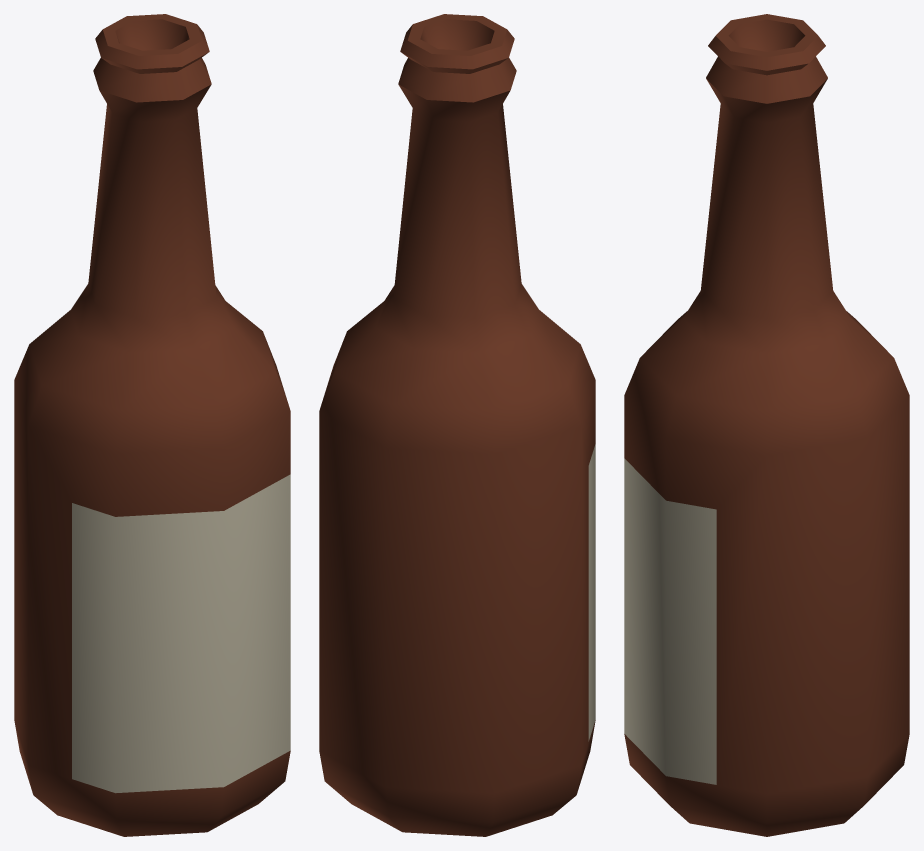
Rendered from 06_prop_beer bottle.FBX.
The picture shows the model from 3 angles, left to right: view 1: azimuth 30°, elevation 25°; view 2: azimuth 150°, elevation 25°; view 3: azimuth 270°, elevation 25°; orthographic projection.
Parts seen in each view (by area): view 1: prop_beer bottle; view 2: prop_beer bottle; view 3: prop_beer bottle.
Part boxes in pixels (left/top/right/bottom): prop_beer bottle: left=14, top=14, right=290, bottom=836; prop_beer bottle: left=319, top=14, right=595, bottom=836; prop_beer bottle: left=624, top=14, right=909, bottom=836.
Size of the model in its own units: 10.13 by 29.55 by 10.13.
